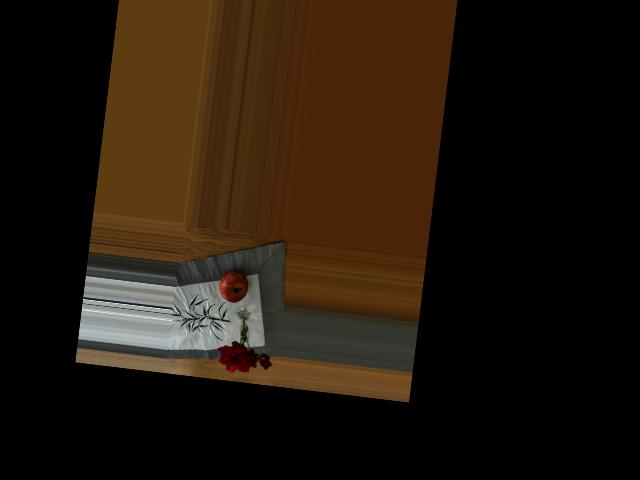apple: (216, 266, 253, 306)
